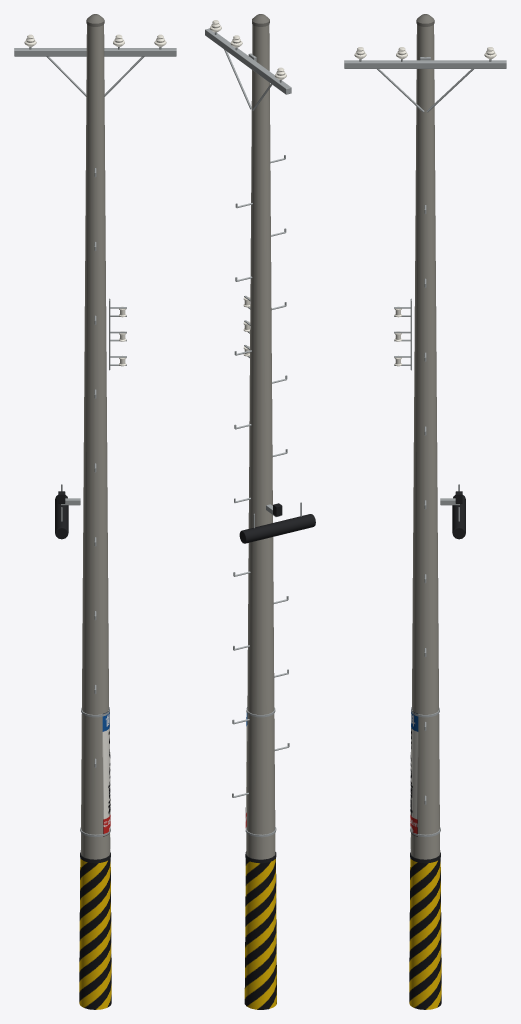
The model's file is utility_pole_plain.fbx.
3 renders of one model, left to right at view 1: azimuth 90°, elevation 25°; view 2: azimuth 210°, elevation 25°; view 3: azimuth 270°, elevation 25°, orthographic.
Visible parts, largest first — view 1: utility_pole_plain; view 2: utility_pole_plain; view 3: utility_pole_plain.
Boxes of the visible parts, bbox=[...] form: utility_pole_plain: bbox=[14, 14, 176, 1009]; utility_pole_plain: bbox=[205, 14, 315, 1009]; utility_pole_plain: bbox=[344, 14, 506, 1009].
Size of the model in its own units: 0.9 by 12.08 by 1.8.
Materials: 8 (2 with a texture image).
